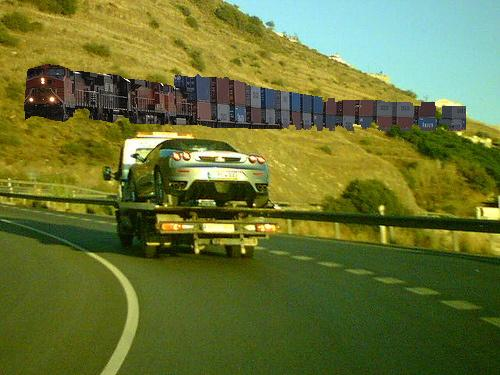tampered: (25, 65, 466, 131)
